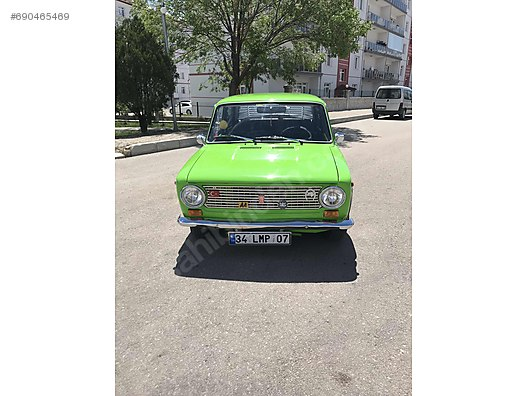murat: (168, 87, 360, 257)
